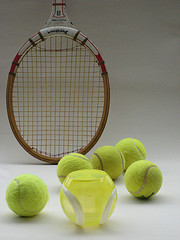tennis ball: (5, 174, 48, 218), (124, 160, 164, 199), (56, 152, 93, 184), (91, 145, 125, 179), (114, 137, 147, 172)
